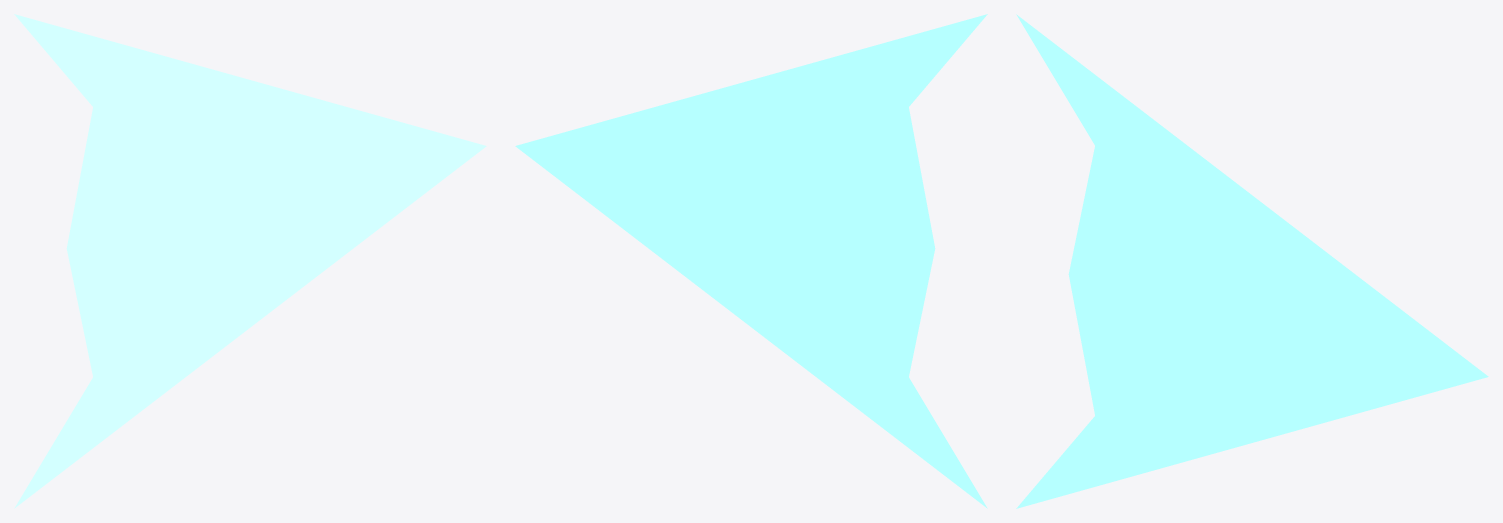
Rendered from SpaceShipAssassinVisual.glb.
3 renders of one model, left to right at view 1: azimuth 30°, elevation 25°; view 2: azimuth 150°, elevation 25°; view 3: azimuth 330°, elevation 25°, orthographic.
Visible parts, largest first — view 1: SpaceShipAssassinVisual; view 2: SpaceShipAssassinVisual; view 3: SpaceShipAssassinVisual.
Part boxes in pixels (x1,y1,x2,y2): SpaceShipAssassinVisual: [14, 14, 486, 508]; SpaceShipAssassinVisual: [515, 14, 987, 508]; SpaceShipAssassinVisual: [1016, 14, 1488, 508].
Bounding box in the file's own units: 20 × 20 × 0.
